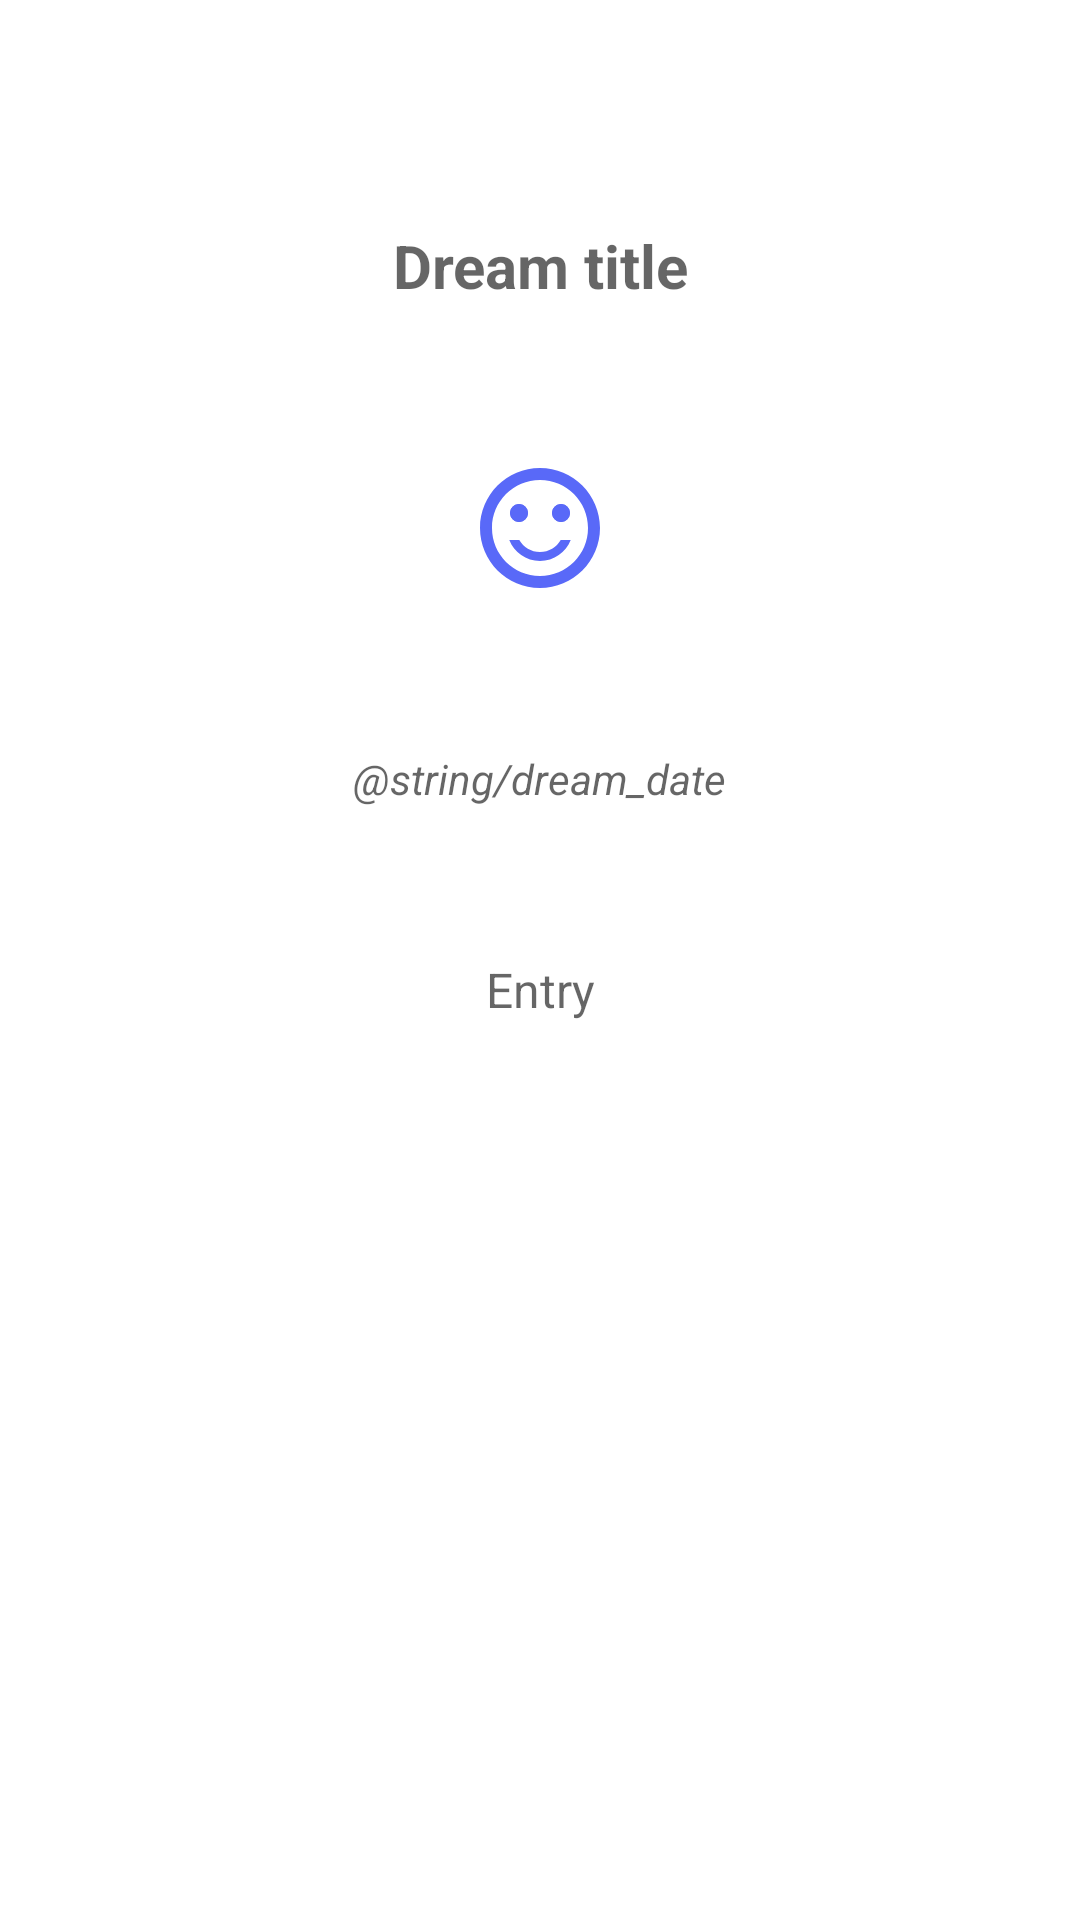

Screen size 1080px x 1920px. Icon name, then its center in pixels as point (x, y):
mood happy: point (540, 528)
